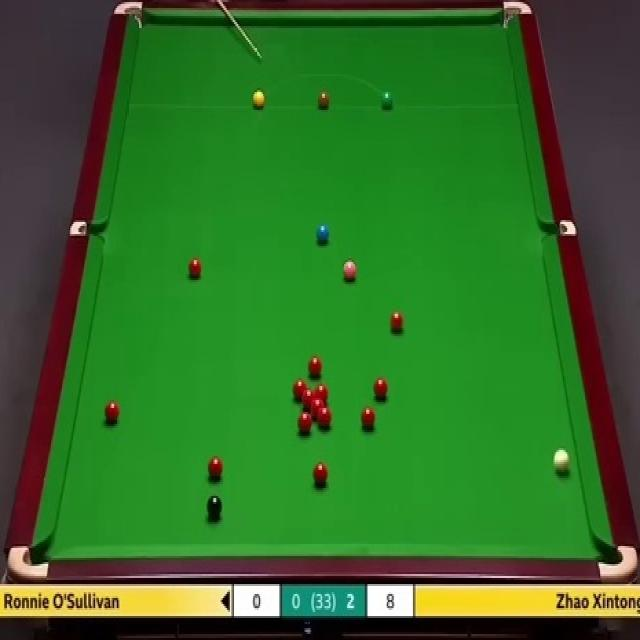pocket: (596, 537, 640, 581), (8, 539, 51, 583), (111, 0, 146, 35), (500, 0, 532, 34), (543, 218, 577, 237), (69, 222, 103, 236)
